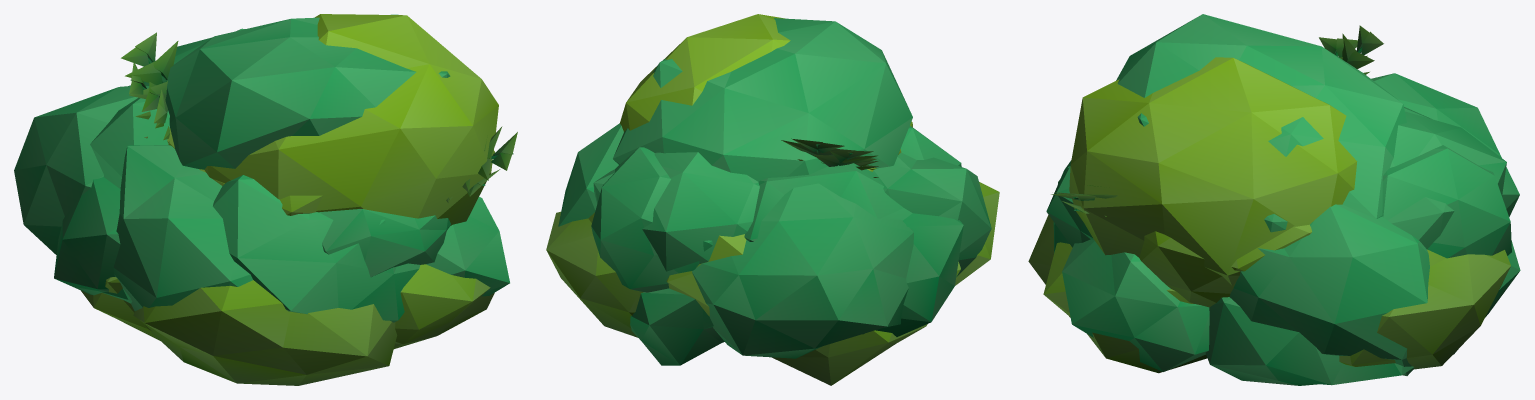
Rendered from vegetasi_bush_emerald_349317.glb.
3 renders of one model, left to right at view 1: azimuth 30°, elevation 25°; view 2: azimuth 150°, elevation 25°; view 3: azimuth 270°, elevation 25°, orthographic. The views are drawn at different scales.
Parts seen in each view (by area): view 1: Semak_Belukar_Sungai; view 2: Semak_Belukar_Sungai; view 3: Semak_Belukar_Sungai.
Boxes of the visible parts, x1,y1,x2,y2 form: Semak_Belukar_Sungai: (14, 14, 517, 385); Semak_Belukar_Sungai: (546, 14, 999, 385); Semak_Belukar_Sungai: (1028, 14, 1520, 385).
Size of the model in its own units: 2.62 by 1.87 by 2.73.
